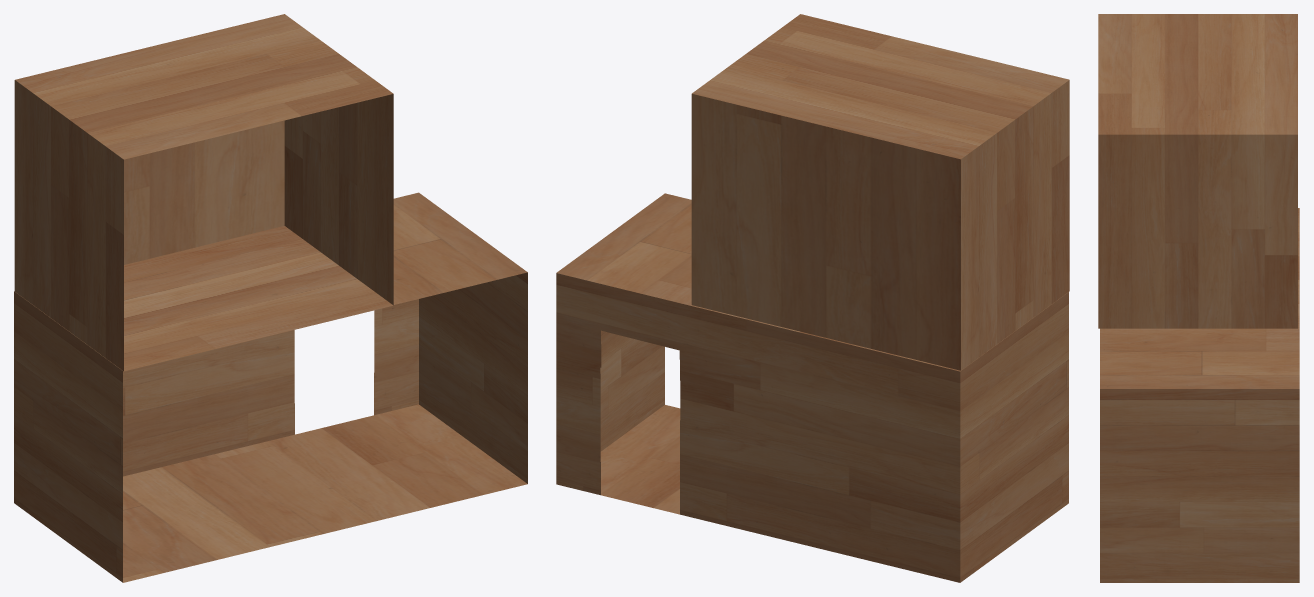
File: blank_fl.glb
3 renders of one model, left to right at view 1: azimuth 30°, elevation 25°; view 2: azimuth 150°, elevation 25°; view 3: azimuth 270°, elevation 25°, orthographic. The views are drawn at different scales.
Visible parts, largest first — view 1: left, Cube.002; view 2: Cube.002, left; view 3: left, Cube.002.
Part boxes in pixels (box(x1,y1,x2,y2)): left: box(14, 14, 393, 371); Cube.002: box(14, 192, 527, 582); Cube.002: box(556, 193, 1068, 582); left: box(691, 14, 1069, 370); left: box(1098, 14, 1297, 328); Cube.002: box(1100, 208, 1299, 582).
Bounding box in the file's own units: 6 × 6 × 2.82.
2 materials, 2 textured.
